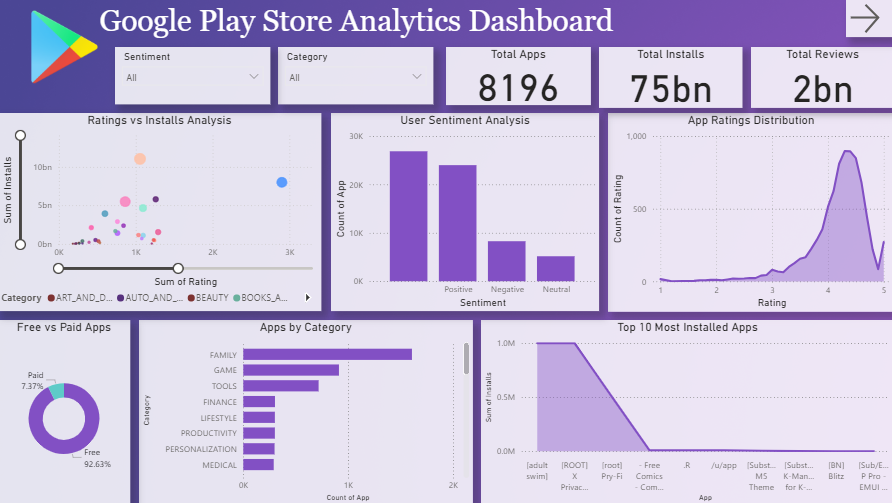

Layout of this report page (visuals, bound fields, positions):
{"tool":"powerbi","page":{"name":"Dashboard","canvas":[1280,720],"ordinal":0},"visuals":[{"type":"barChart","title":"Apps by Category","fields":{"Category":["cleaned_apps.Category"],"Y":["CountNonNull(cleaned_apps.App)"]},"box":[201.6,456.5,476.6,263.5],"z":0},{"type":"stackedAreaChart","title":"App Ratings Distribution","fields":{"Category":["cleaned_apps.Rating"],"Y":["CountNonNull(cleaned_apps.Rating)"]},"box":[871.2,161.3,409,283.7],"z":1000},{"type":"areaChart","title":"Top 10 Most Installed Apps","fields":{"Category":["cleaned_apps.App"],"Y":["Sum(cleaned_apps.Installs)"]},"box":[689.8,456.5,590.4,263.5],"z":2000},{"type":"donutChart","title":"Free vs Paid Apps","fields":{"Category":["cleaned_apps.Type"],"Y":["CountNonNull(cleaned_apps.App)"]},"box":[0,457.1,188.6,262.9],"z":3000},{"type":"scatterChart","title":"Ratings vs Installs Analysis","fields":{"X":["Sum(cleaned_apps.Rating)"],"Y":["Sum(cleaned_apps.Installs)"],"Size":["Sum(cleaned_apps.Reviews)"],"Series":["cleaned_apps.Category"]},"box":[0,161.7,461.7,283.3],"z":4000},{"type":"clusteredColumnChart","title":"User Sentiment Analysis","fields":{"Category":["cleaned_reviews.Sentiment"],"Y":["CountNonNull(cleaned_reviews.App)"]},"box":[475,161.7,383.3,283.3],"z":5000},{"type":"textbox","box":[140,0,780,66.7],"z":6000},{"type":"card","title":"Total Apps","fields":{"Values":["cleaned_apps.Total Apps"]},"box":[640,66.7,206.7,83.3],"z":7000},{"type":"card","title":"Total Installs","fields":{"Values":["cleaned_apps.Total Installs"]},"box":[858.3,66.7,205,86.7],"z":8000},{"type":"card","title":"Total Reviews","fields":{"Values":["cleaned_apps.Total Reviews"]},"box":[1075,66.7,205,86.7],"z":9000},{"type":"slicer","title":"Total Apps","fields":{"Values":["cleaned_apps.Category"]},"box":[400,66.7,221.7,81.7],"z":10000},{"type":"slicer","title":"Total Apps","fields":{"Values":["cleaned_reviews.Sentiment"]},"box":[166.7,66.7,221.7,81.7],"z":11000},{"type":"image","box":[24.3,10,140,114.3],"z":12000},{"type":"actionButton","title":"Sentiment page","box":[1211.4,0,68.6,52.9],"z":13000}]}

Visuals, with their boxes in screenshot pixels (x1, y1, x2, y2), scaled from the page's 1280x720 canvas onto the 892x503 screenshot:
"Apps by Category" barChart: box=[140, 319, 473, 502]
"App Ratings Distribution" stackedAreaChart: box=[607, 113, 891, 311]
"Top 10 Most Installed Apps" areaChart: box=[481, 319, 891, 502]
"Free vs Paid Apps" donutChart: box=[0, 319, 131, 502]
"Ratings vs Installs Analysis" scatterChart: box=[0, 113, 322, 311]
"User Sentiment Analysis" clusteredColumnChart: box=[331, 113, 598, 311]
textbox: box=[98, 0, 641, 47]
"Total Apps" card: box=[446, 47, 590, 105]
"Total Installs" card: box=[598, 47, 741, 107]
"Total Reviews" card: box=[749, 47, 891, 107]
"Total Apps" slicer: box=[279, 47, 433, 104]
"Total Apps" slicer: box=[116, 47, 271, 104]
image: box=[17, 7, 114, 87]
"Sentiment page" actionButton: box=[844, 0, 891, 37]
